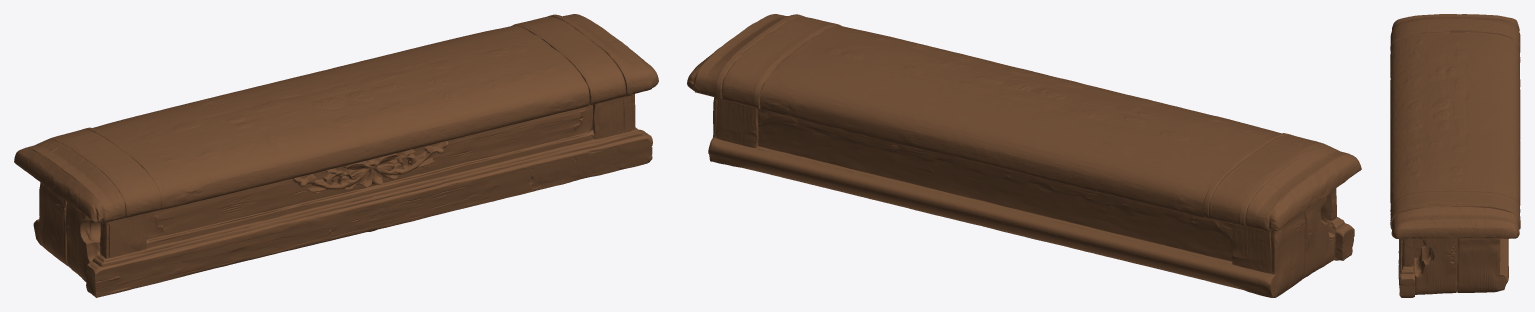
Rendered from kneeling-rest.glb.
3 renders of one model, left to right at view 1: azimuth 30°, elevation 25°; view 2: azimuth 150°, elevation 25°; view 3: azimuth 270°, elevation 25°, orthographic. The views are drawn at different scales.
Parts seen in each view (by area): view 1: ROG_KNEE_REST_HYPER3D_MASTER; view 2: ROG_KNEE_REST_HYPER3D_MASTER; view 3: ROG_KNEE_REST_HYPER3D_MASTER.
Part boxes in pixels (x1=…): ROG_KNEE_REST_HYPER3D_MASTER: x1=14, y1=14, x2=658, y2=297; ROG_KNEE_REST_HYPER3D_MASTER: x1=687, y1=14, x2=1361, y2=297; ROG_KNEE_REST_HYPER3D_MASTER: x1=1390, y1=14, x2=1520, y2=297.
Size of the model in its own units: 3.33 by 0.6391 by 0.8651.
